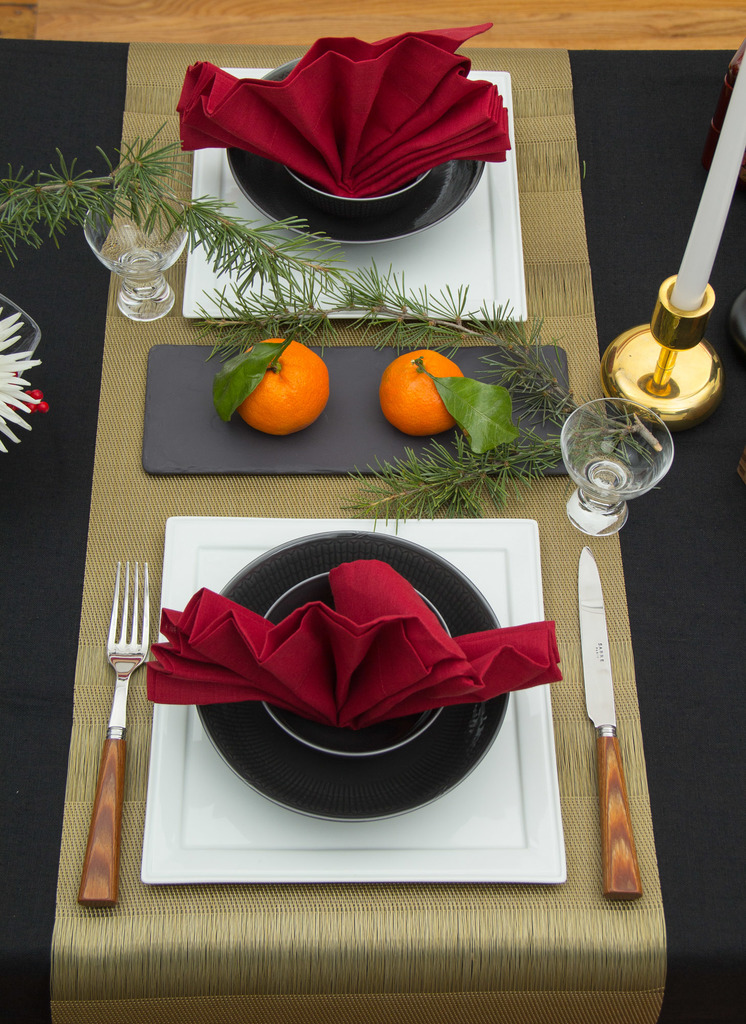plate: (134, 512, 557, 893)
